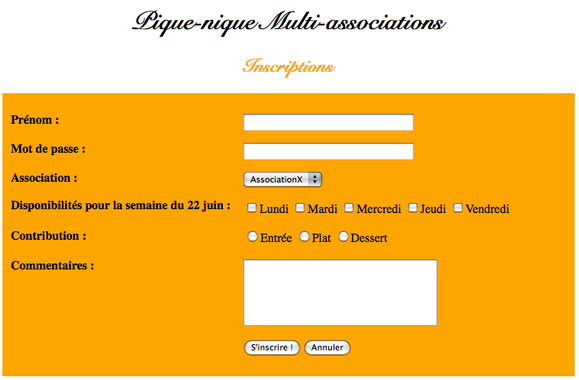_form_: (6, 8, 445, 380)
button: (245, 340, 300, 355), (306, 341, 350, 356)
checkbox: (296, 201, 307, 214), (408, 201, 418, 214), (248, 202, 258, 214), (345, 202, 355, 214), (454, 202, 462, 213)
checkbox_with_label: (343, 201, 402, 216), (452, 201, 511, 215), (295, 199, 339, 216), (407, 200, 446, 216), (246, 201, 289, 215)
field: (240, 259, 438, 326), (240, 142, 414, 160), (240, 113, 413, 131), (242, 172, 322, 187)
field_with_label: (9, 140, 417, 162), (10, 112, 416, 134), (12, 170, 324, 189)
radio: (339, 229, 351, 243), (299, 230, 311, 242), (247, 230, 257, 243)
radio_with_label: (337, 227, 388, 245), (245, 228, 292, 245), (296, 228, 331, 245)
